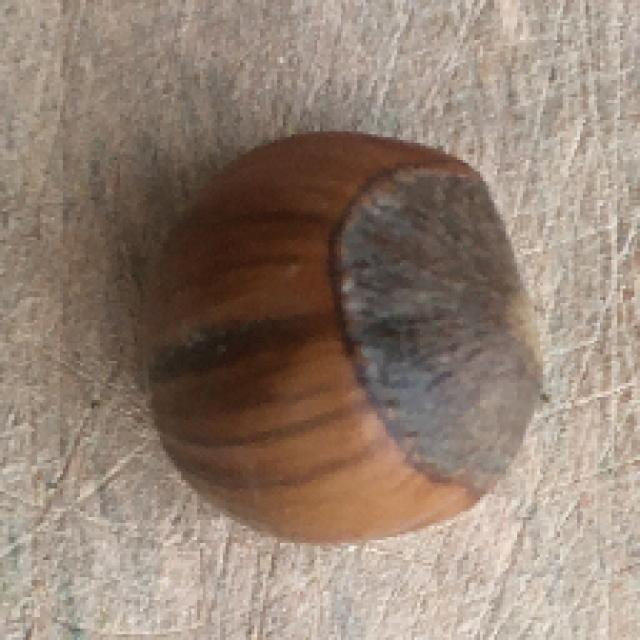DamagedHazelnut: (147, 131, 549, 546)
